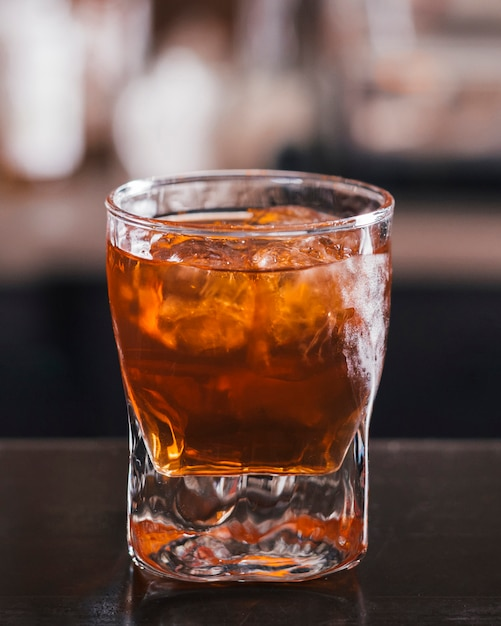alcohol: (95, 173, 405, 584)
